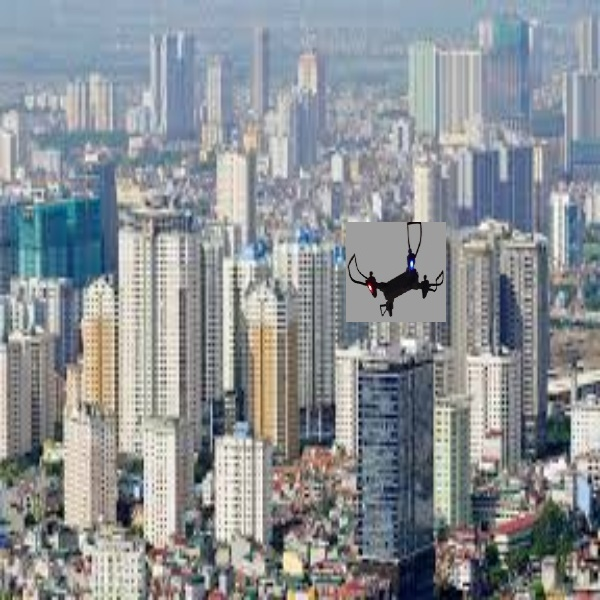drone: (343, 220, 447, 319)
